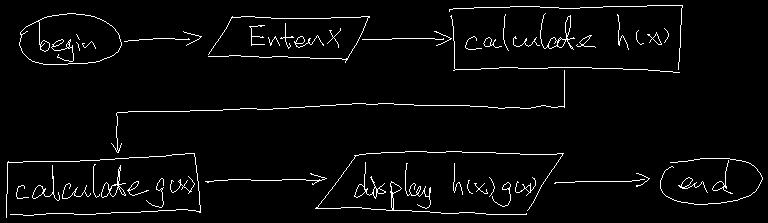arrow: (111, 70, 564, 152), (205, 173, 326, 184), (362, 31, 451, 45), (554, 173, 649, 186), (124, 31, 201, 45)
data: (315, 151, 563, 214), (208, 16, 369, 62)
process: (449, 5, 682, 72), (6, 153, 200, 217)
terminator: (19, 13, 121, 64), (660, 158, 762, 204)
text: (354, 162, 535, 210), (16, 164, 194, 207), (465, 13, 668, 50), (38, 20, 95, 61), (249, 23, 340, 48), (678, 160, 732, 193)
